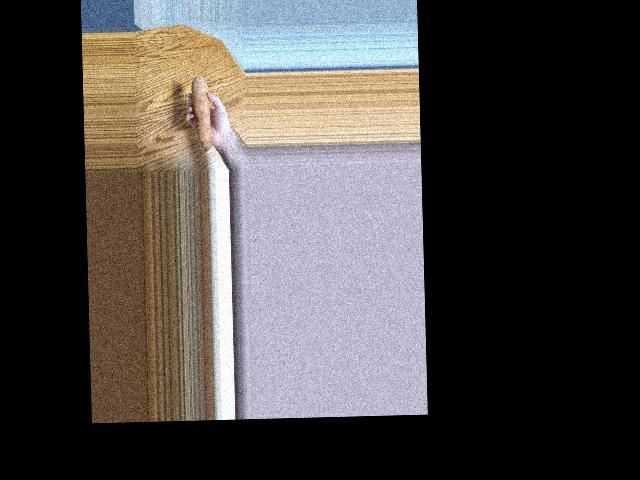sweet_potato: (185, 72, 211, 150)
